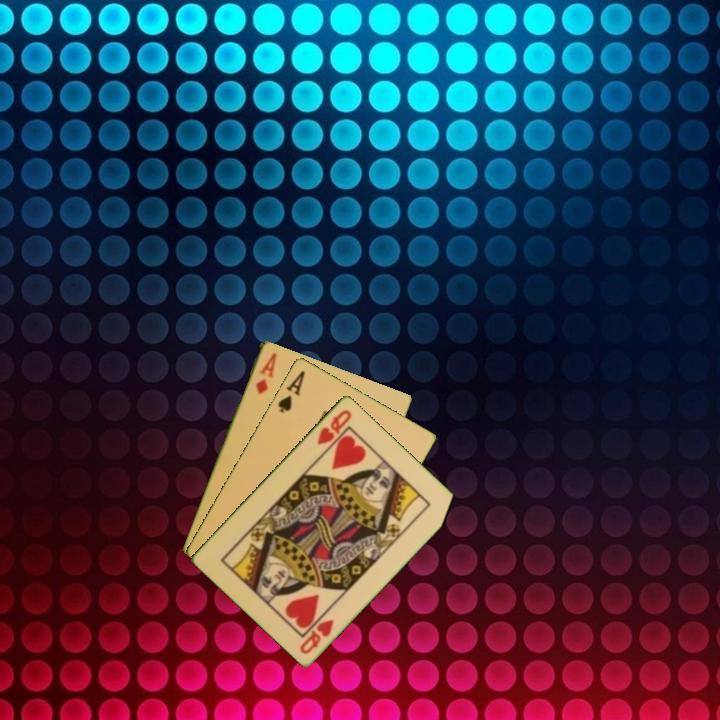Ad: (252, 349, 279, 397)
As: (274, 367, 308, 416)
Qh: (296, 615, 337, 657), (314, 406, 355, 447)
